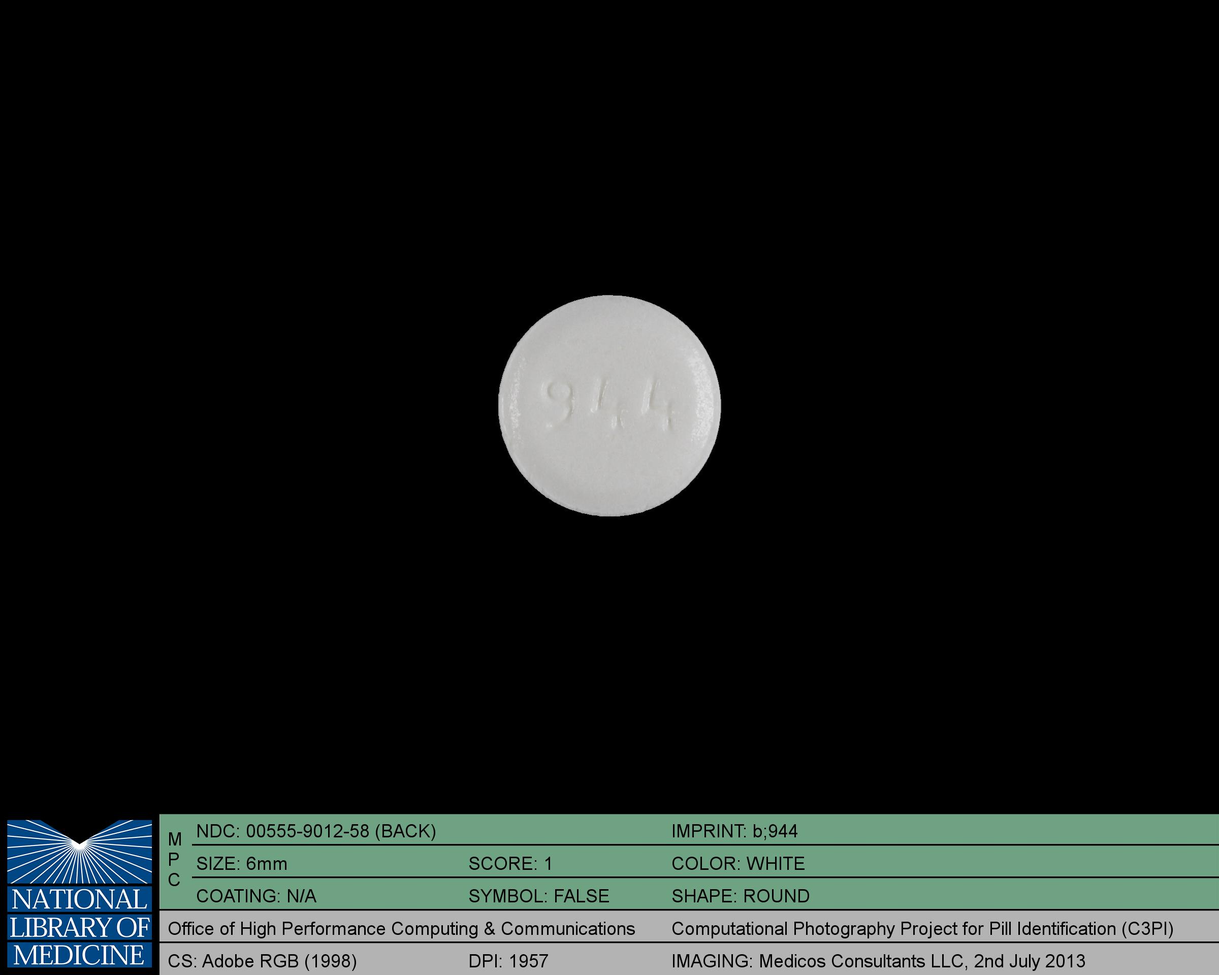Pill: (489, 283, 733, 524)
